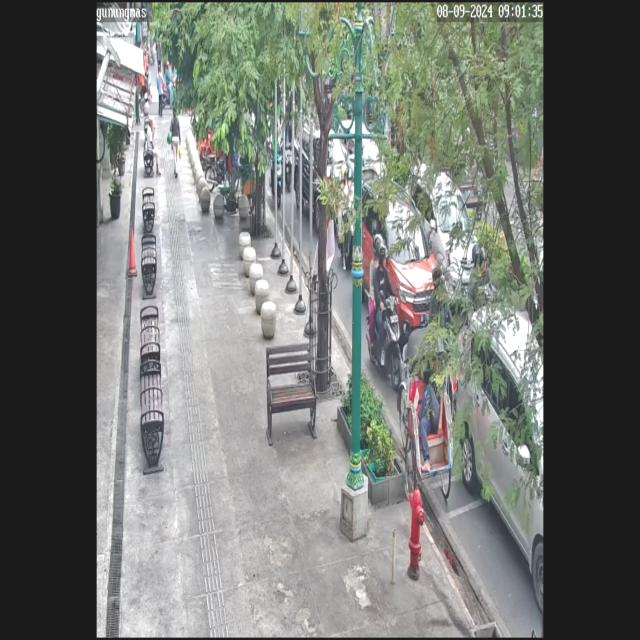Car: (448, 283, 546, 616), (407, 156, 482, 305), (360, 188, 435, 334), (288, 120, 345, 238), (338, 115, 388, 189)
Motorcycle: (363, 266, 406, 396), (266, 131, 287, 209), (339, 172, 356, 261)
